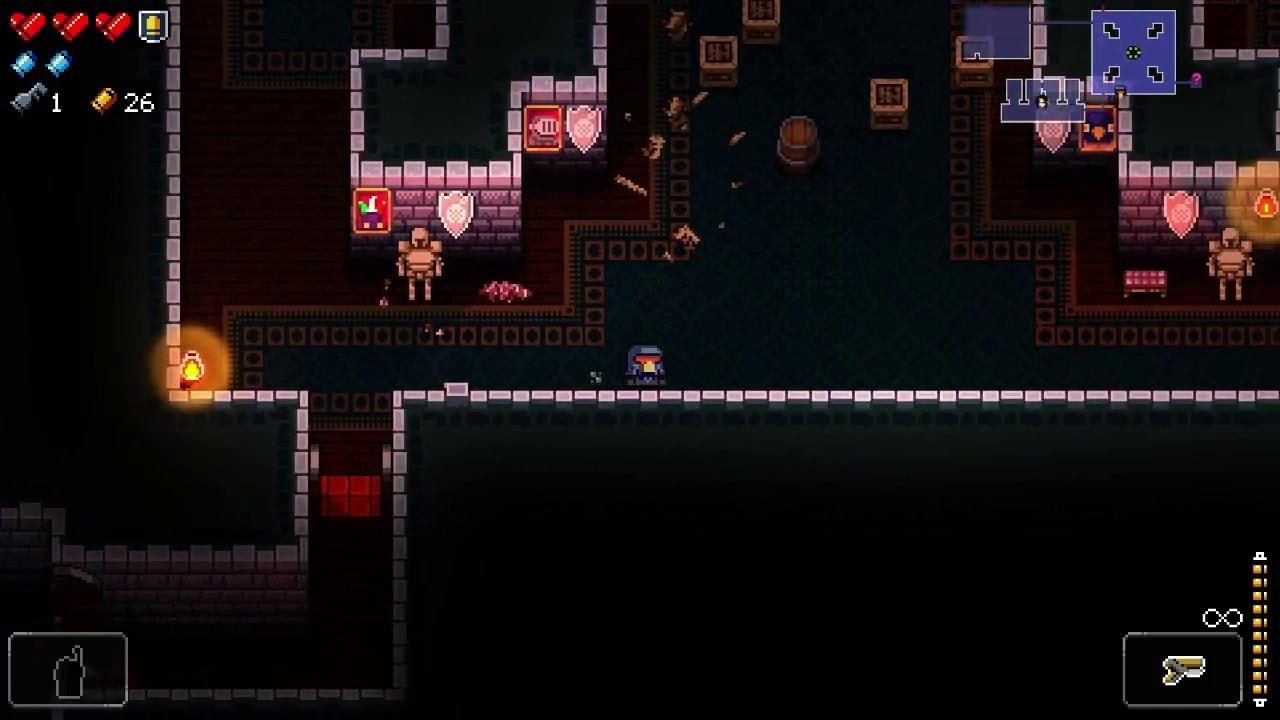player: (625, 343, 666, 389)
unlocked_door: (379, 442, 393, 531), (309, 443, 320, 533)
